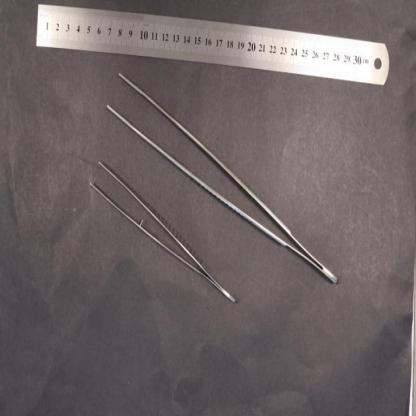DeBakey Dissector: (107, 72, 338, 286)
Gillies Toothed Dissector: (88, 159, 237, 305)
